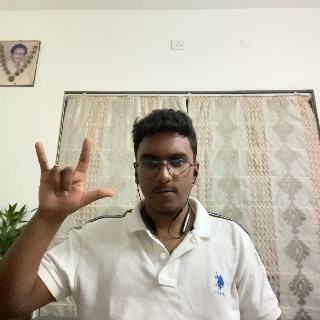Face: (135, 119, 194, 211)
I Love You: (31, 139, 115, 219)
